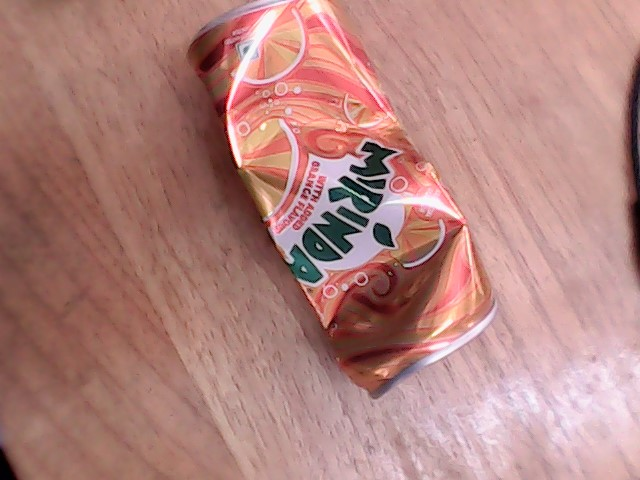Metal: (183, 12, 512, 400)
